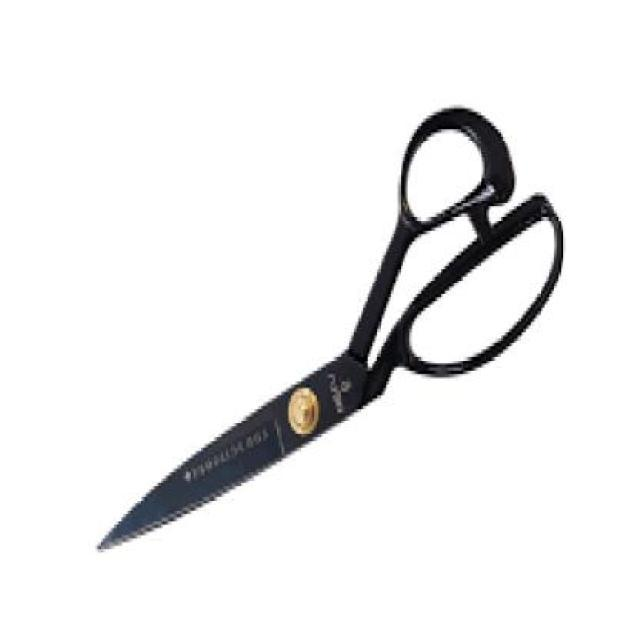scissors: (100, 105, 566, 550)
